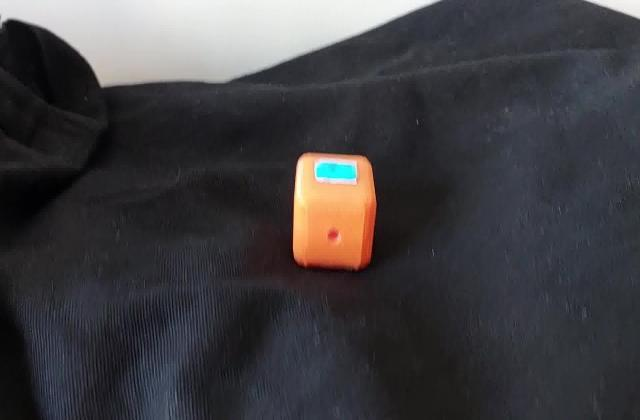blue: (320, 166, 354, 178)
cube: (290, 148, 381, 274)
